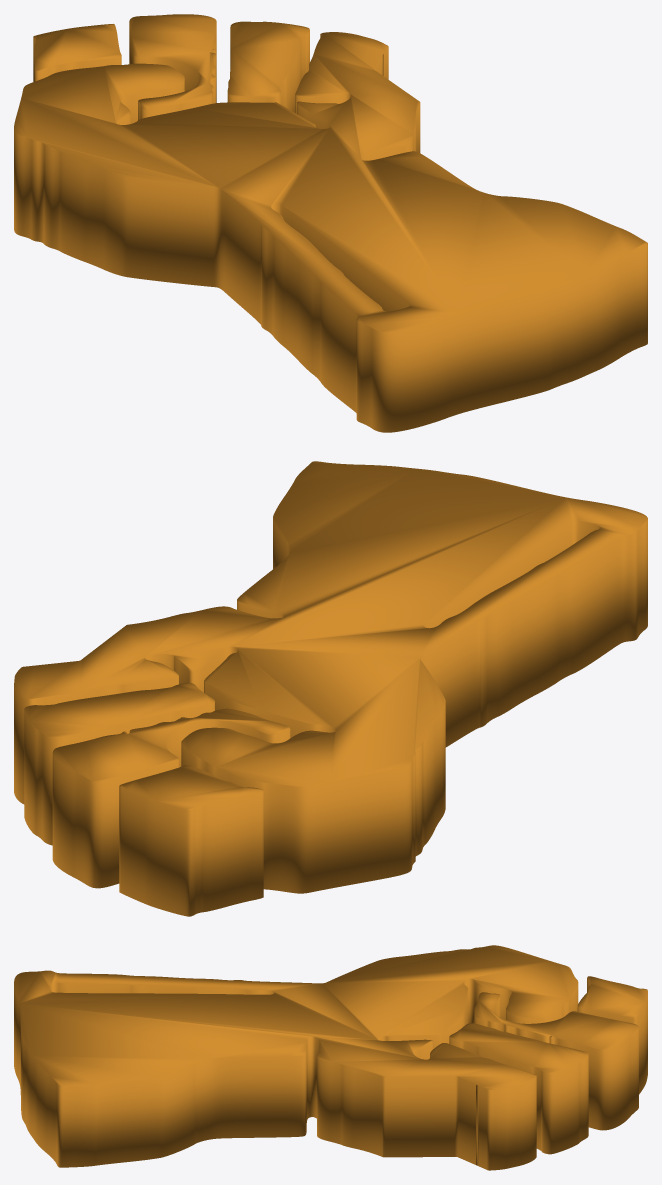
The model's file is gold.glb.
3 renders of one model, top to bottom at view 1: azimuth 30°, elevation 25°; view 2: azimuth 150°, elevation 25°; view 3: azimuth 270°, elevation 25°, orthographic. The views are drawn at different scales.
Visible parts, largest first — view 1: rename; view 2: rename; view 3: rename.
Boxes of the visible parts, x1,y1,x2,y2 form: rename: [14, 14, 647, 432]; rename: [14, 461, 647, 916]; rename: [14, 945, 647, 1170].
Bounding box in the file's own units: 38.48 × 10 × 71.3.
